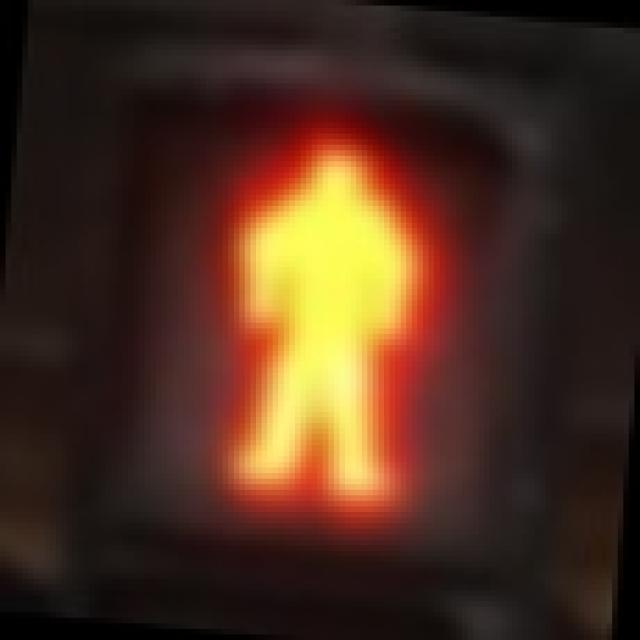red_light: (133, 83, 490, 534)
